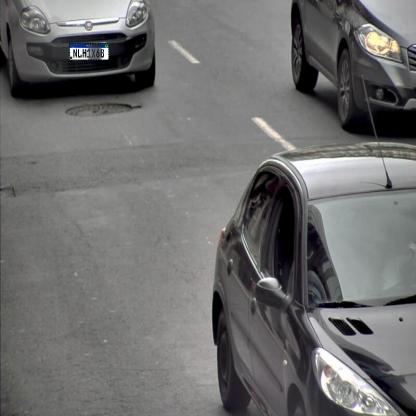PlacaM: (69, 43, 109, 60)
